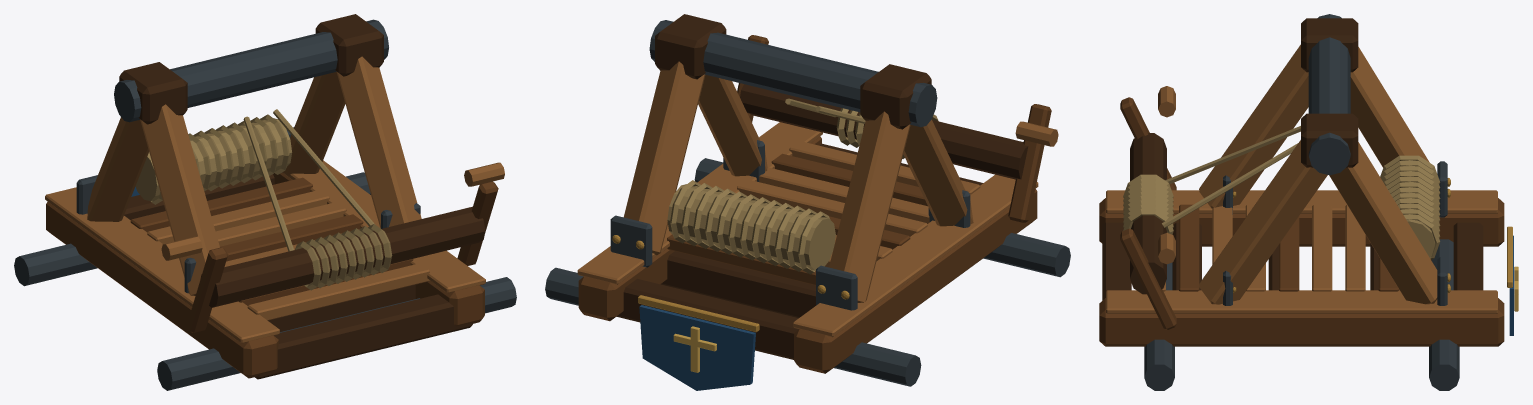
Rendered from Body.glb.
The picture shows the model from 3 angles, left to right: view 1: azimuth 30°, elevation 25°; view 2: azimuth 150°, elevation 25°; view 3: azimuth 270°, elevation 25°; orthographic projection. The views are drawn at different scales.
Visible parts, largest first — view 1: Sculpture; view 2: Sculpture; view 3: Sculpture.
Boxes of the visible parts, x1,y1,x2,y2 form: Sculpture: (14, 14, 516, 390); Sculpture: (545, 14, 1070, 390); Sculpture: (1099, 14, 1518, 390).
Bounding box in the file's own units: 2.14 × 1.52 × 2.27.
